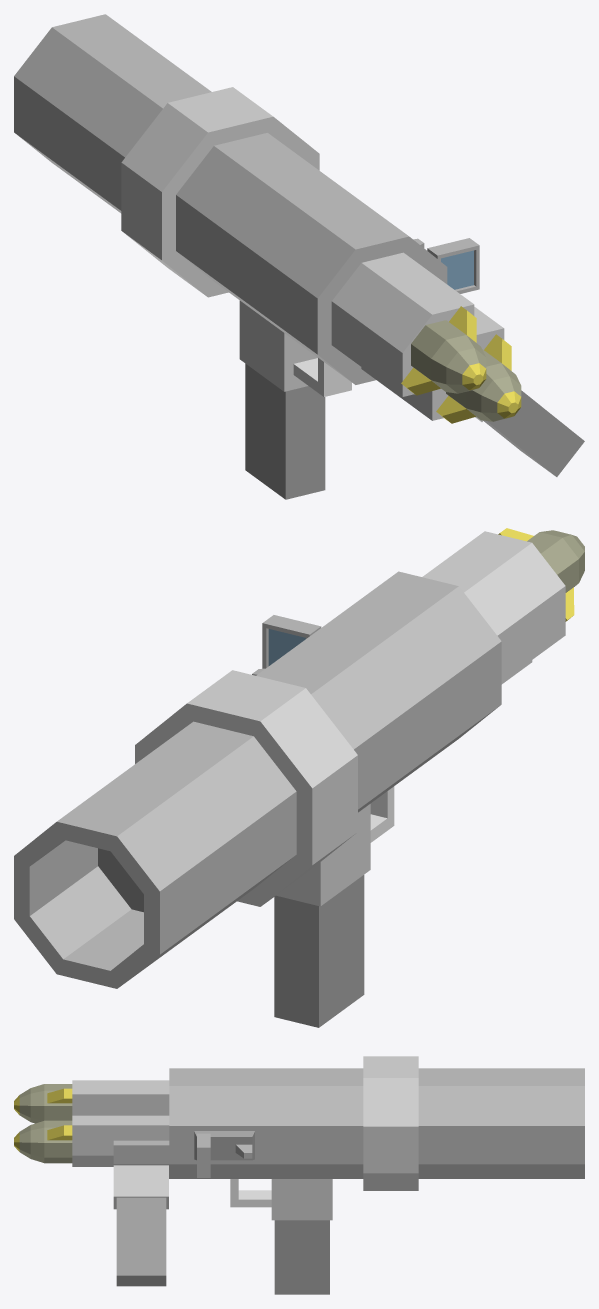
The model's file is rocketlauncherModern.glb.
3 views of the same model, one above another, from view 1: azimuth 30°, elevation 25°; view 2: azimuth 150°, elevation 25°; view 3: azimuth 270°, elevation 25° (orthographic). The views are drawn at different scales.
Parts seen in each view (by area): view 1: Mesh3 Group4 Group1 Model, Mesh1 Group2 Group1 Model, Mesh2 Group3 Group1 Model; view 2: Mesh3 Group4 Group1 Model, Mesh1 Group2 Group1 Model; view 3: Mesh3 Group4 Group1 Model, Mesh2 Group3 Group1 Model, Mesh1 Group2 Group1 Model.
Boxes of the visible parts, x1,y1,x2,y2 form: Mesh3 Group4 Group1 Model: [14, 14, 584, 499]; Mesh1 Group2 Group1 Model: [401, 306, 486, 395]; Mesh2 Group3 Group1 Model: [436, 334, 521, 423]; Mesh3 Group4 Group1 Model: [14, 531, 565, 1027]; Mesh1 Group2 Group1 Model: [498, 528, 584, 621]; Mesh3 Group4 Group1 Model: [72, 1056, 584, 1294]; Mesh2 Group3 Group1 Model: [14, 1120, 72, 1163]; Mesh1 Group2 Group1 Model: [14, 1084, 72, 1123].
Size of the model in its own units: 0.0415 by 0.0528 by 0.1236.
